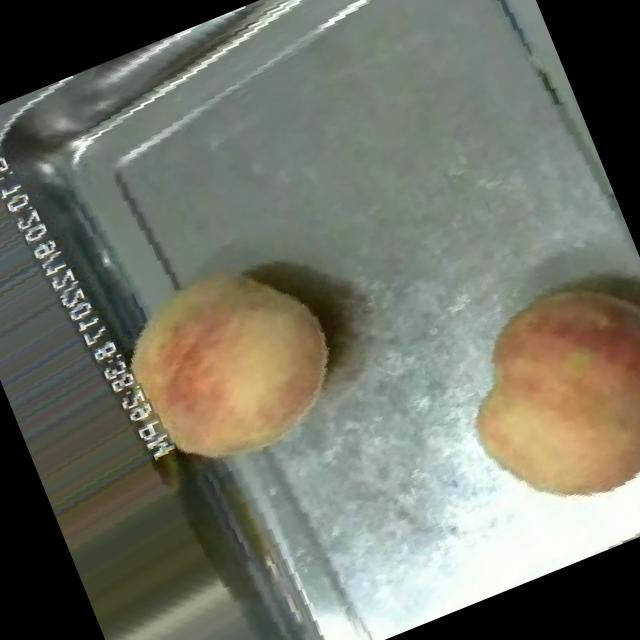Fruit: (79, 218, 376, 506), (420, 243, 640, 550)
